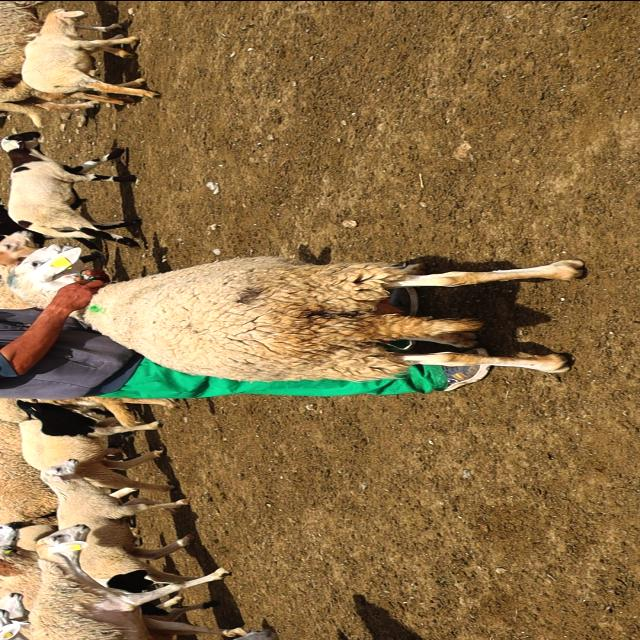Score_3: (84, 255, 583, 381)
